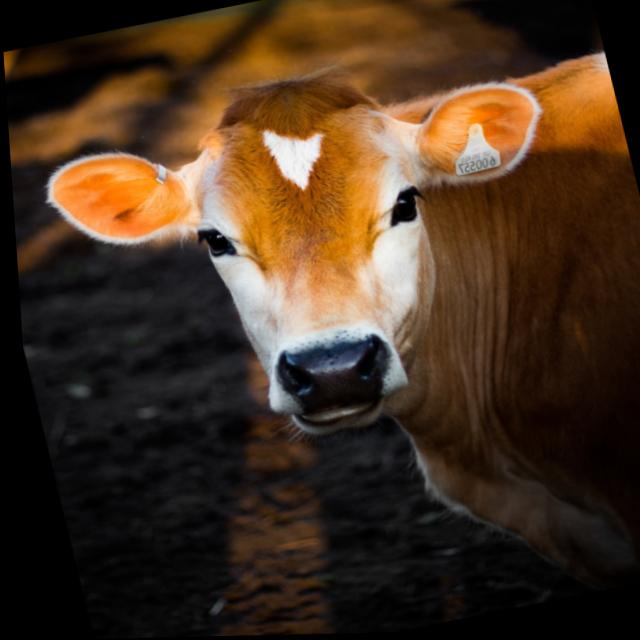cowFace: (15, 32, 590, 415)
